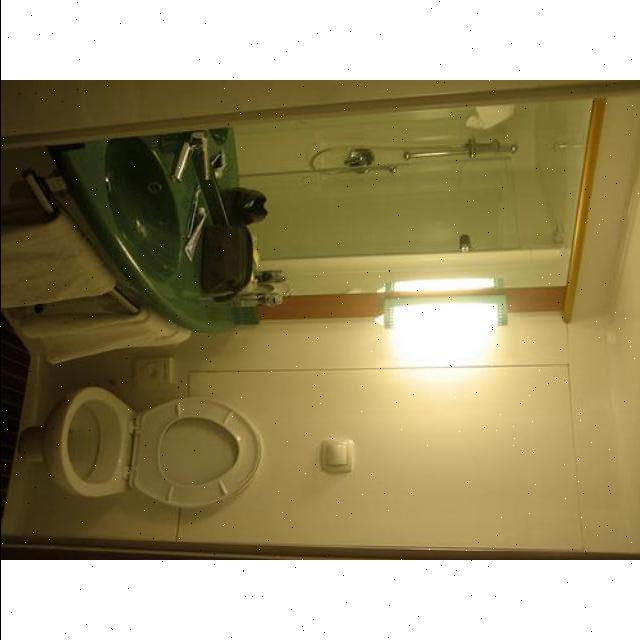toothbrush: (48, 136, 245, 330), (20, 387, 262, 508), (202, 224, 254, 308), (186, 186, 200, 238)
